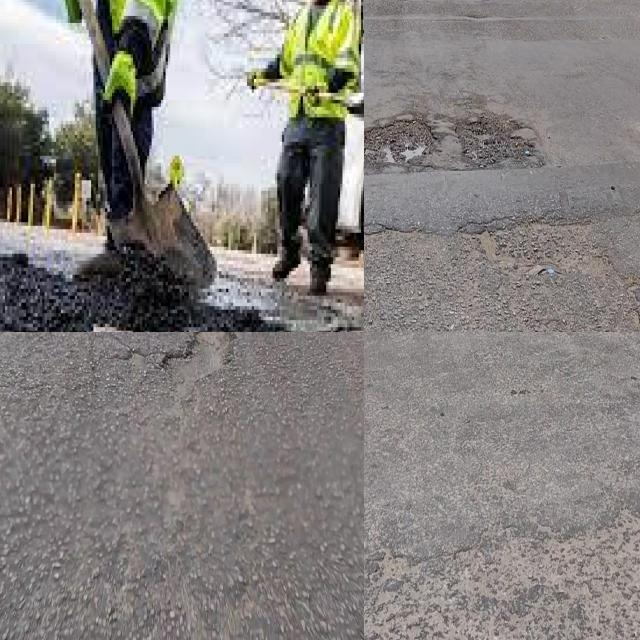Pothole: (158, 332, 238, 384), (459, 115, 534, 164), (364, 121, 438, 170)
